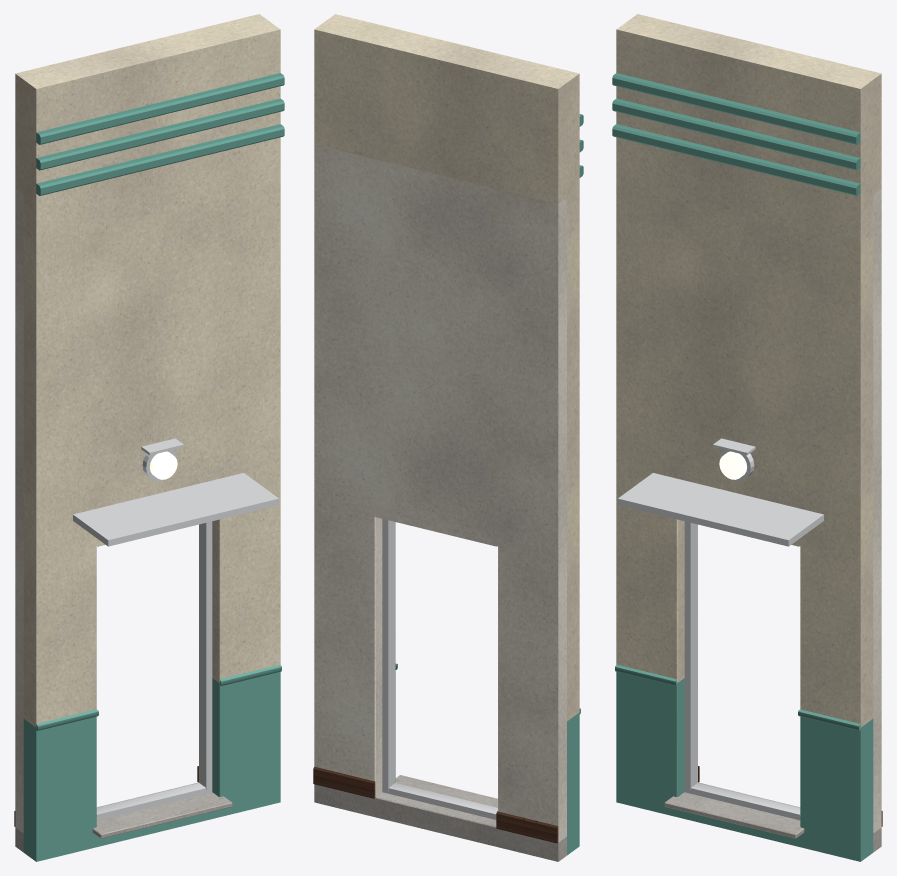
File: w_svc.glb
The picture shows the model from 3 angles, left to right: view 1: azimuth 30°, elevation 25°; view 2: azimuth 150°, elevation 25°; view 3: azimuth 330°, elevation 25°; orthographic projection.
Visible parts, largest first — view 1: w_svc_render, w_svc_tile_g, w_svc_trim_g, w_svc_metal, w_svc_plaster, w_svc_frame, w_svc_concrete, w_svc_lamp_glass; view 2: w_svc_plaster, w_svc_render, w_svc_concrete, w_svc_frame, w_svc_dkwood, w_svc_tile_g; view 3: w_svc_render, w_svc_tile_g, w_svc_trim_g, w_svc_metal, w_svc_plaster, w_svc_frame, w_svc_concrete, w_svc_lamp_glass.
Boxes of the visible parts, x1=… form: w_svc_render: x1=15, y1=14, x2=280, y2=727; w_svc_tile_g: x1=23, y1=664, x2=281, y2=861; w_svc_trim_g: x1=36, y1=73, x2=284, y2=195; w_svc_metal: x1=73, y1=438, x2=278, y2=546; w_svc_plaster: x1=15, y1=189, x2=199, y2=832; w_svc_frame: x1=96, y1=521, x2=212, y2=820; w_svc_concrete: x1=15, y1=782, x2=232, y2=852; w_svc_lamp_glass: x1=149, y1=451, x2=177, y2=479; w_svc_plaster: x1=314, y1=144, x2=566, y2=842; w_svc_render: x1=314, y1=14, x2=579, y2=721; w_svc_concrete: x1=314, y1=775, x2=566, y2=861; w_svc_frame: x1=382, y1=519, x2=497, y2=819; w_svc_dkwood: x1=313, y1=766, x2=558, y2=843; w_svc_tile_g: x1=395, y1=663, x2=580, y2=855; w_svc_render: x1=616, y1=14, x2=881, y2=727; w_svc_tile_g: x1=615, y1=664, x2=873, y2=861; w_svc_trim_g: x1=612, y1=73, x2=860, y2=195; w_svc_metal: x1=618, y1=438, x2=823, y2=546; w_svc_plaster: x1=697, y1=189, x2=881, y2=832; w_svc_frame: x1=684, y1=521, x2=800, y2=820; w_svc_concrete: x1=664, y1=782, x2=881, y2=852; w_svc_lamp_glass: x1=719, y1=451, x2=747, y2=479.
Bounding box in the file's own units: 2 × 6.05 × 0.816.
9 materials, 4 textured.
